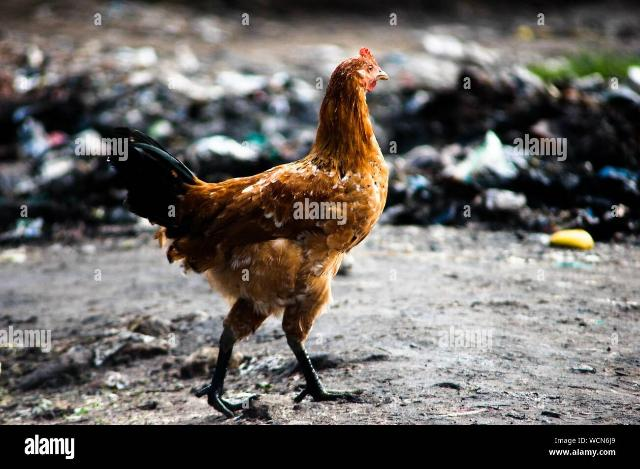Chicken: (108, 47, 388, 416)
